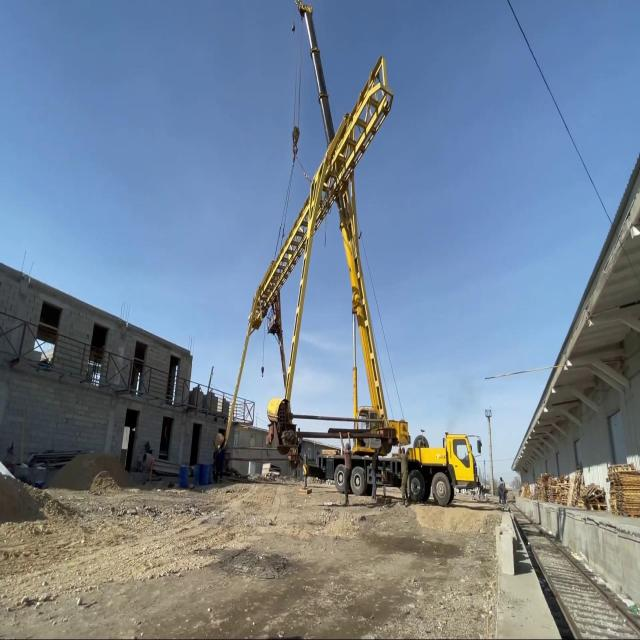crane: (289, 0, 482, 505)
